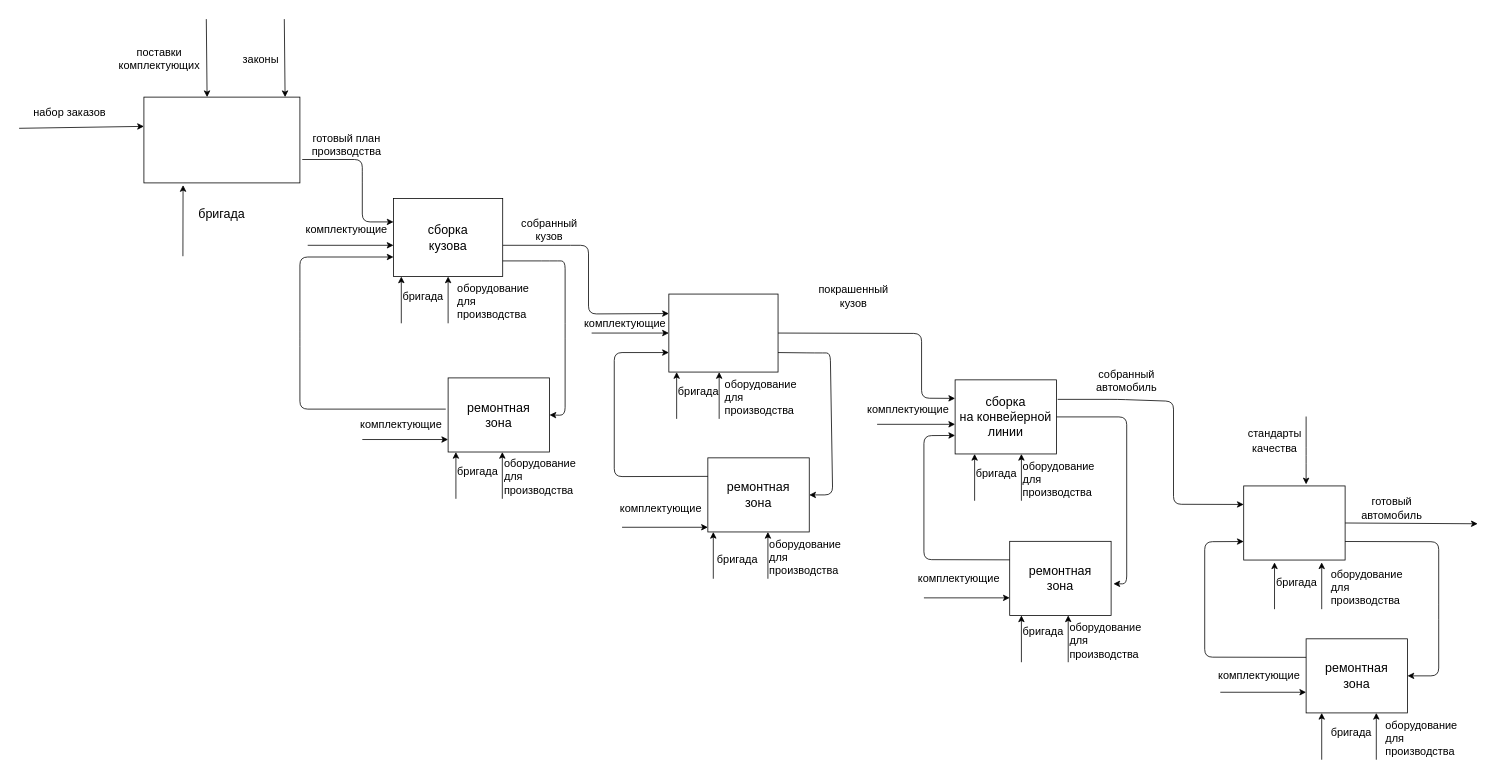
Some shapes in this 1498 by 780 pixel diagram are drawn without their labels. The box of each missing label's shape, as (x1, y1, x2, y2) in pixels:
контроль качества: (1243, 485, 1345, 560)
покраска: (668, 293, 778, 372)
составление плана производства: (143, 96, 300, 183)
